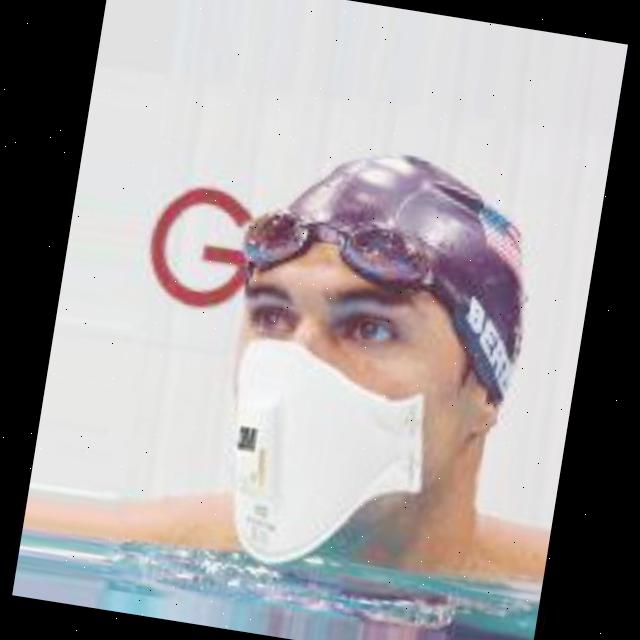suspicion: (152, 175, 521, 614)
